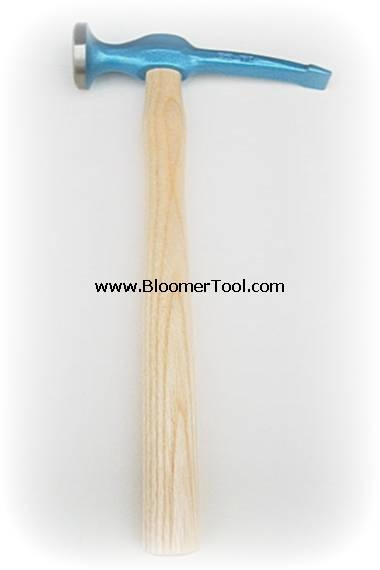hammer: (68, 16, 332, 552)
